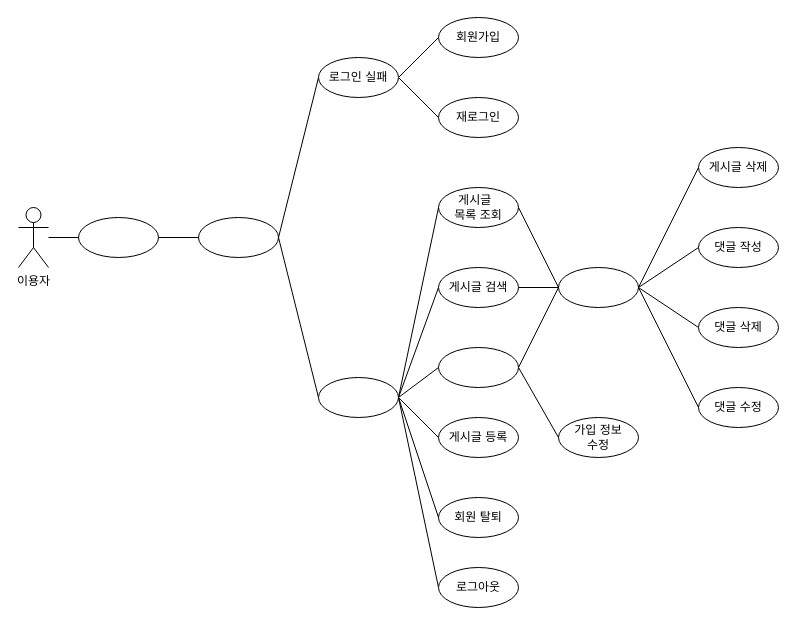
This 796x625 diagram has some shape labels left out. Here are the shapes that lost their labels. From the top down, the box of each, then its label:
(78, 216, 158, 258): 시작화면
(198, 216, 278, 258): 로그인
(558, 266, 638, 308): 게시글 상세 조회
(438, 346, 518, 388): 프로필 확인
(318, 376, 398, 418): 로그인 성공
